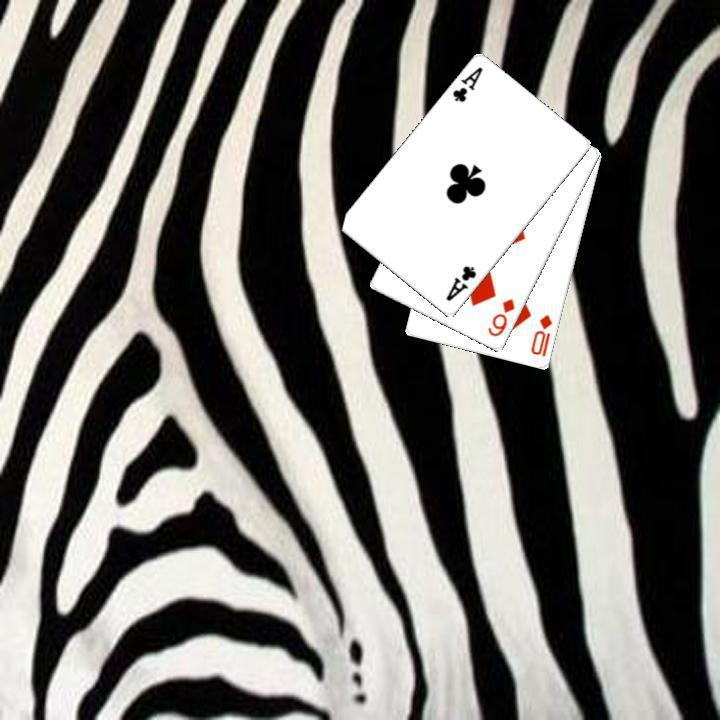10: (527, 310, 554, 359)
6: (483, 294, 517, 339)
A: (441, 261, 478, 303), (448, 63, 485, 105)
